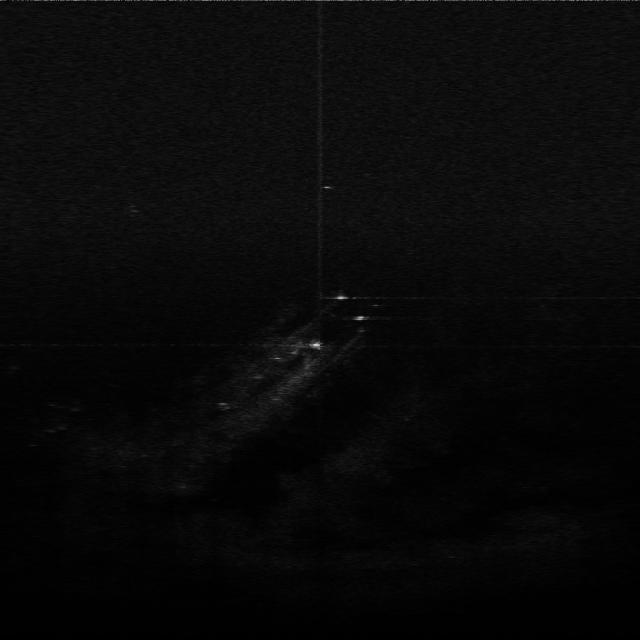rov: (303, 336, 331, 353)
